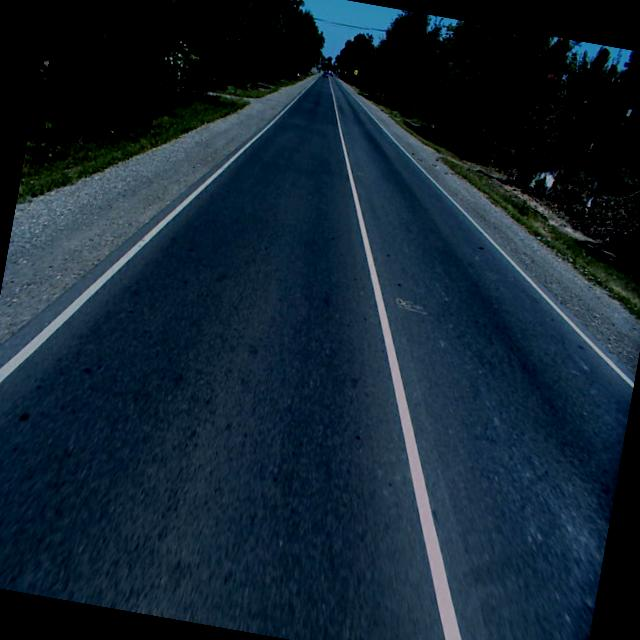road: (0, 74, 634, 640)
